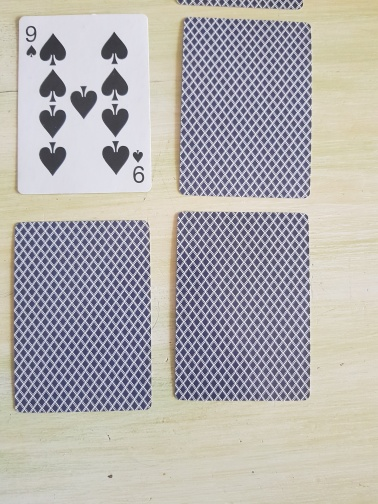nine: (15, 13, 154, 196)
